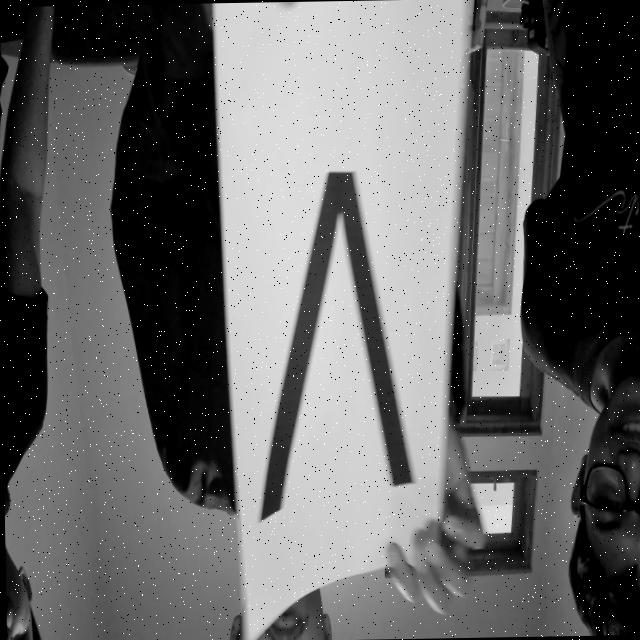v: (242, 174, 424, 536)
